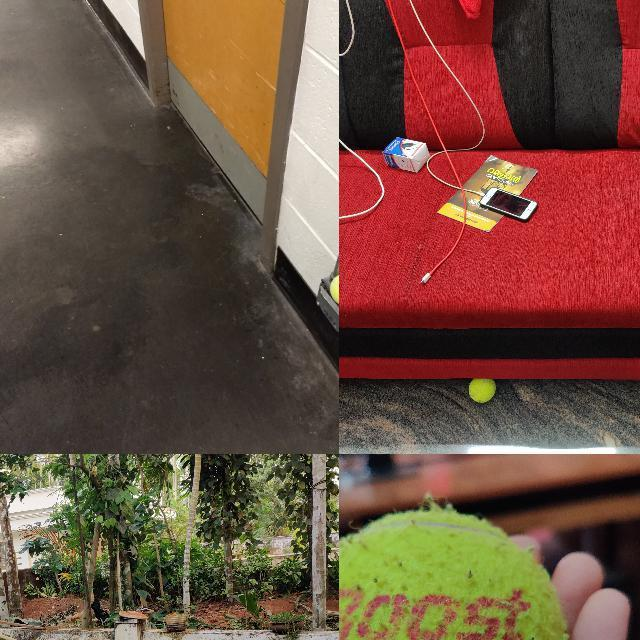tennis-ball: (339, 509, 566, 639), (468, 380, 496, 403), (328, 273, 338, 308)
